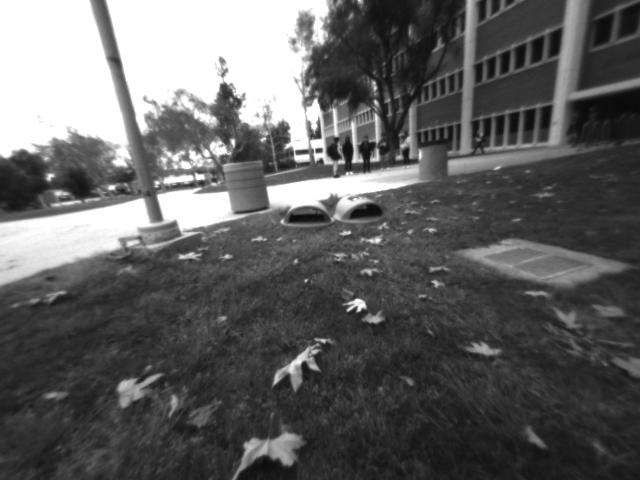trashcan: (221, 159, 276, 212), (420, 144, 449, 180)
